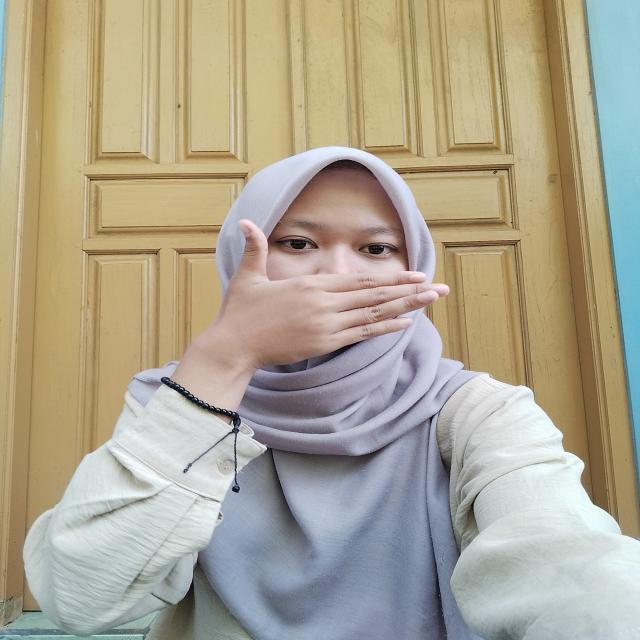buruk: (188, 218, 460, 362)
